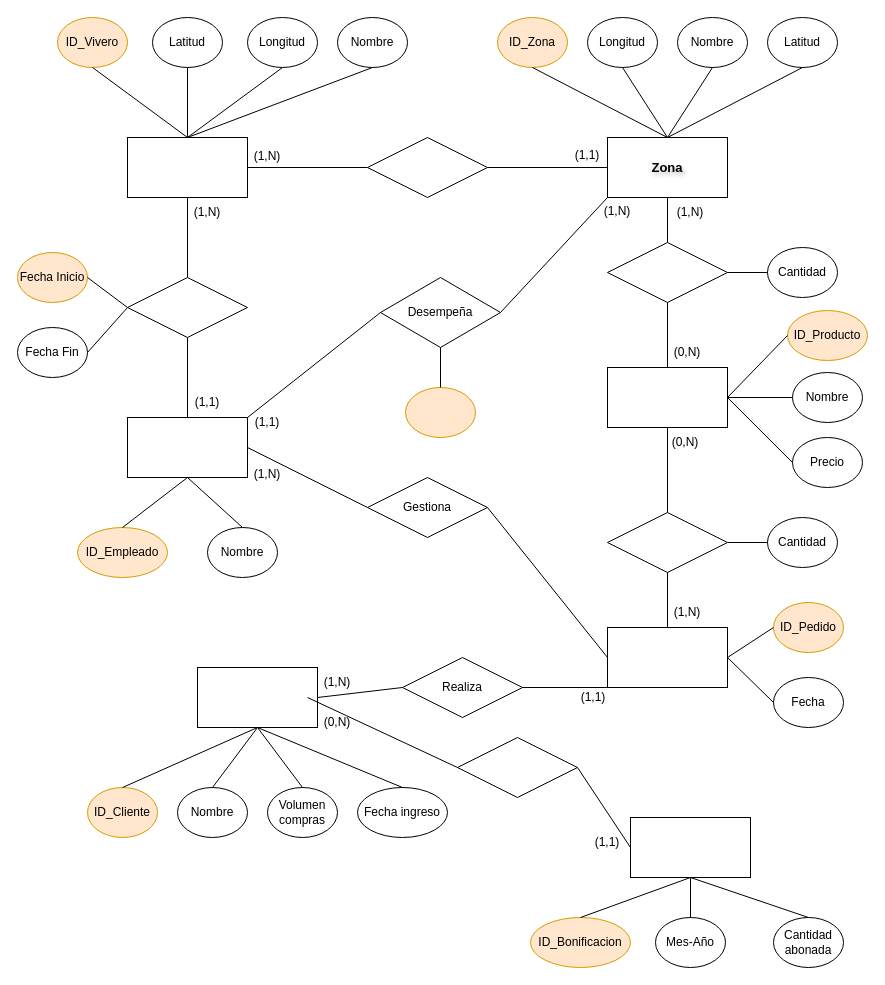
Some shapes in this 885 by 985 pixel diagram are drawn without their labels. The centre of each missing label's shape, as x and y in pixels:
Asignan: point (427, 167)
Bonificaiones: point (690, 847)
Cliente Tajinaste Plus: point (257, 697)
Contiene: point (667, 542)
Destinado: point (187, 307)
Empleados: point (187, 447)
Pedidos: point (667, 657)
Producto: point (667, 397)
Recbe: point (517, 767)
Stock: point (667, 272)
Tarea: point (440, 412)
Vivero: point (187, 167)
